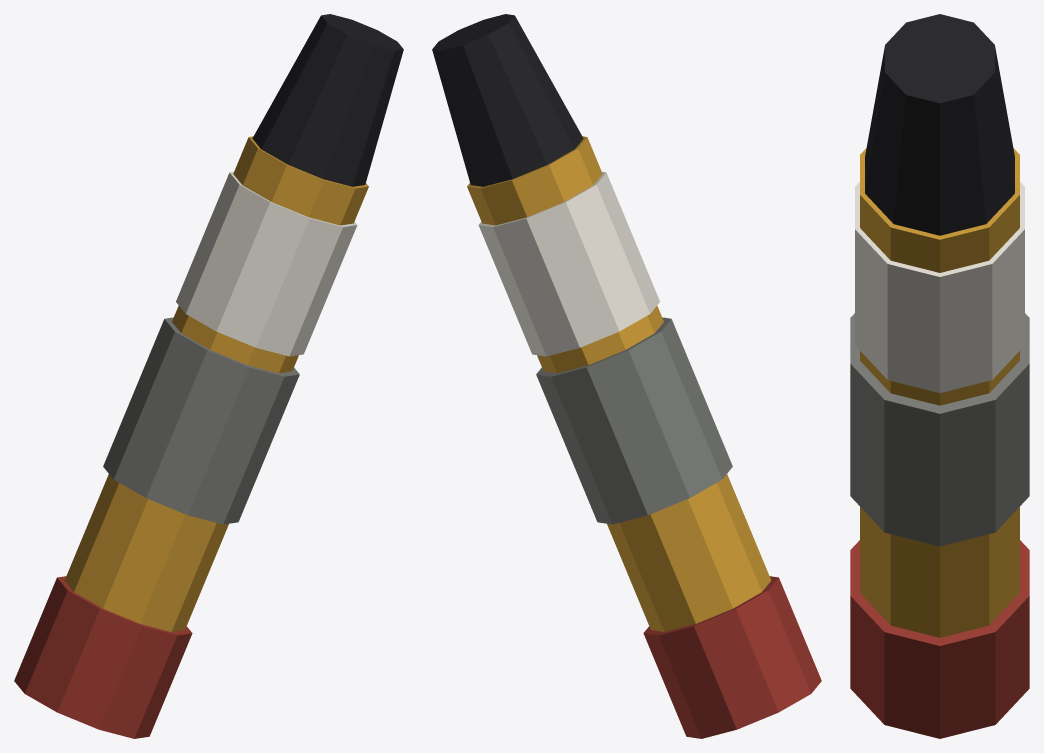
The model's file is adrenaline_shot.glb.
3 renders of one model, left to right at view 1: azimuth 30°, elevation 25°; view 2: azimuth 150°, elevation 25°; view 3: azimuth 270°, elevation 25°, orthographic. The views are drawn at different scales.
Parts seen in each view (by area): view 1: adrenaline_shot; view 2: adrenaline_shot; view 3: adrenaline_shot.
Part boxes in pixels (box(x1,y1,x2,y2)): adrenaline_shot: box(14, 14, 403, 738); adrenaline_shot: box(432, 14, 821, 738); adrenaline_shot: box(850, 14, 1029, 738).
Bounding box in the file's own units: 0.1057 × 0.1774 × 0.0342.
1 material, 1 textured.
